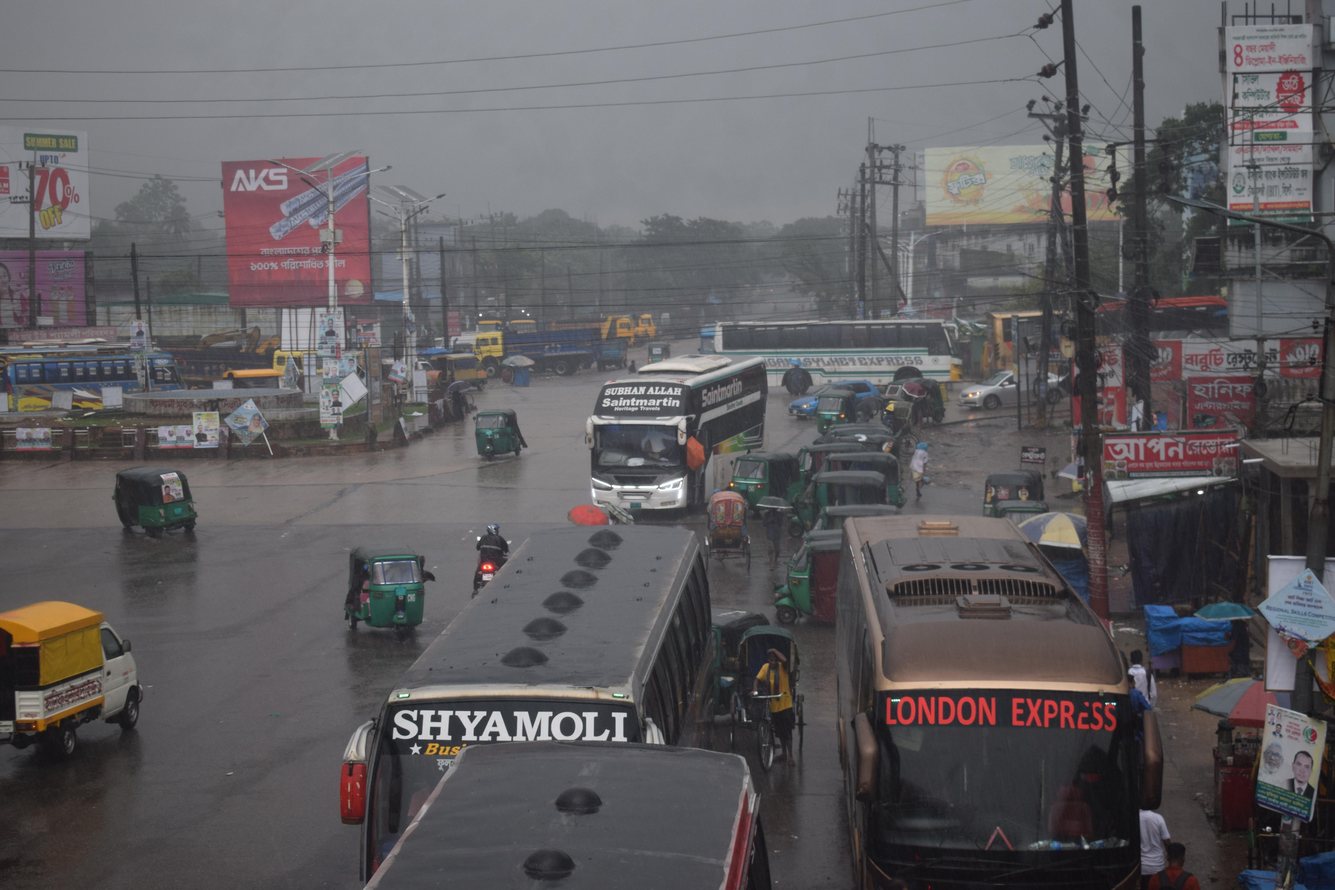Bike: (456, 509, 537, 606)
Bus: (317, 414, 712, 834), (816, 474, 1153, 890), (306, 716, 798, 890), (546, 325, 794, 549), (672, 284, 980, 437), (985, 273, 1268, 392), (0, 318, 203, 448)
Car: (716, 597, 839, 780)
Truck: (462, 299, 634, 386), (190, 334, 348, 406)
